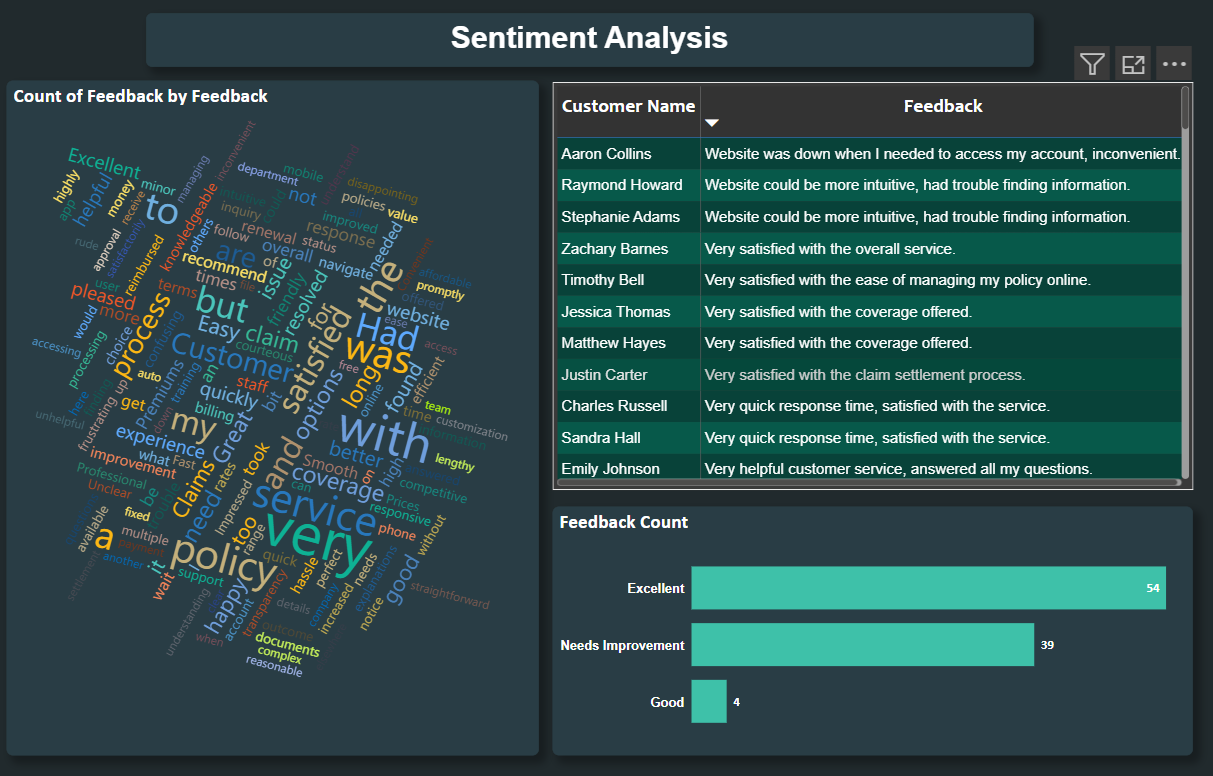

Layout of this report page (visuals, bound fields, positions):
{"tool":"powerbi","page":{"name":"Sentiment Analysis","canvas":[1500,1000],"ordinal":2},"visuals":[{"type":"WordCloud1447959067750","fields":{"Category":["Sheet1.Feedback"],"Values":["CountNonNull(Sheet1.Feedback)"]},"box":[9.3,105.6,657.4,833.3],"z":0},{"type":"barChart","title":"Feedback Count","fields":{"Category":["Sheet1.Good/Improvement"],"Y":["CountNonNull(Sheet1.Good/Improvement)"]},"box":[683.3,631.5,790.7,307.4],"z":1000},{"type":"tableEx","fields":{"Values":["Sheet1.Customer Name","Sheet1.Feedback"]},"box":[683.3,107.4,790.7,503.7],"z":2000},{"type":"textbox","box":[181.5,22.2,1096.3,66.7],"z":2001}]}

Visuals, with their boxes on the page's 1500x1000 design canvas (x1, y1, x2, y2). These are canvas units, not pixel positions in the 1213x776 screenshot, which may show the page scaled, cropped or inside an application window:
WordCloud1447959067750 - Sheet1.Feedback x CountNonNull(Sheet1.Feedback): [left=9, top=106, right=667, bottom=939]
"Feedback Count" barChart: [left=683, top=632, right=1474, bottom=939]
tableEx - Sheet1.Customer Name x Sheet1.Feedback: [left=683, top=107, right=1474, bottom=611]
textbox: [left=182, top=22, right=1278, bottom=89]
